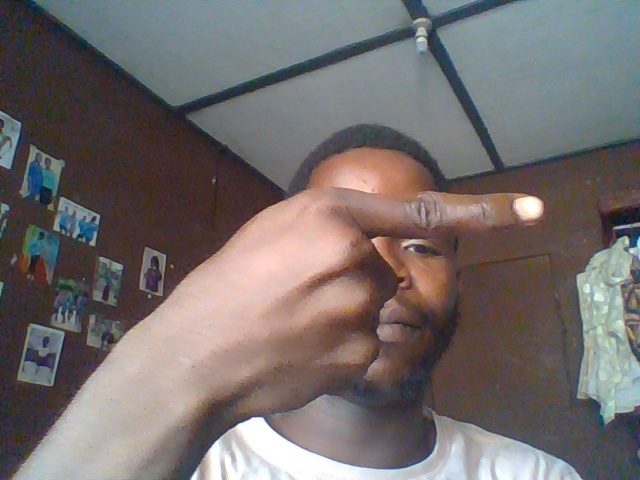Left: (151, 182, 548, 395)
